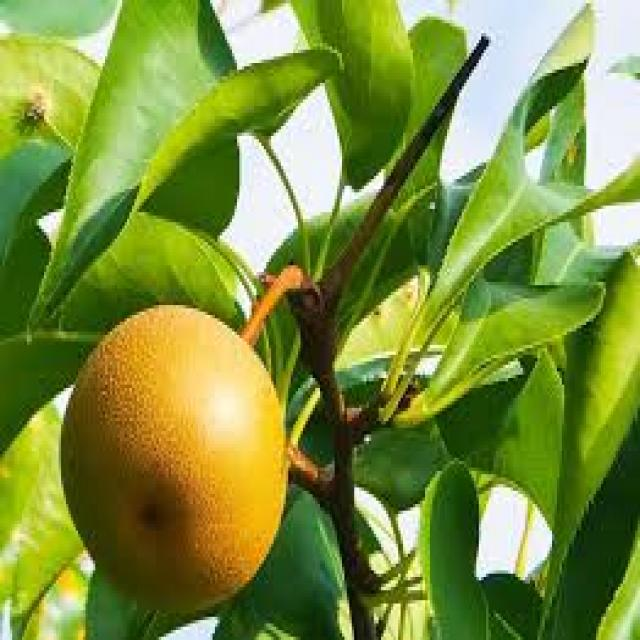Pear: (61, 305, 288, 615)
